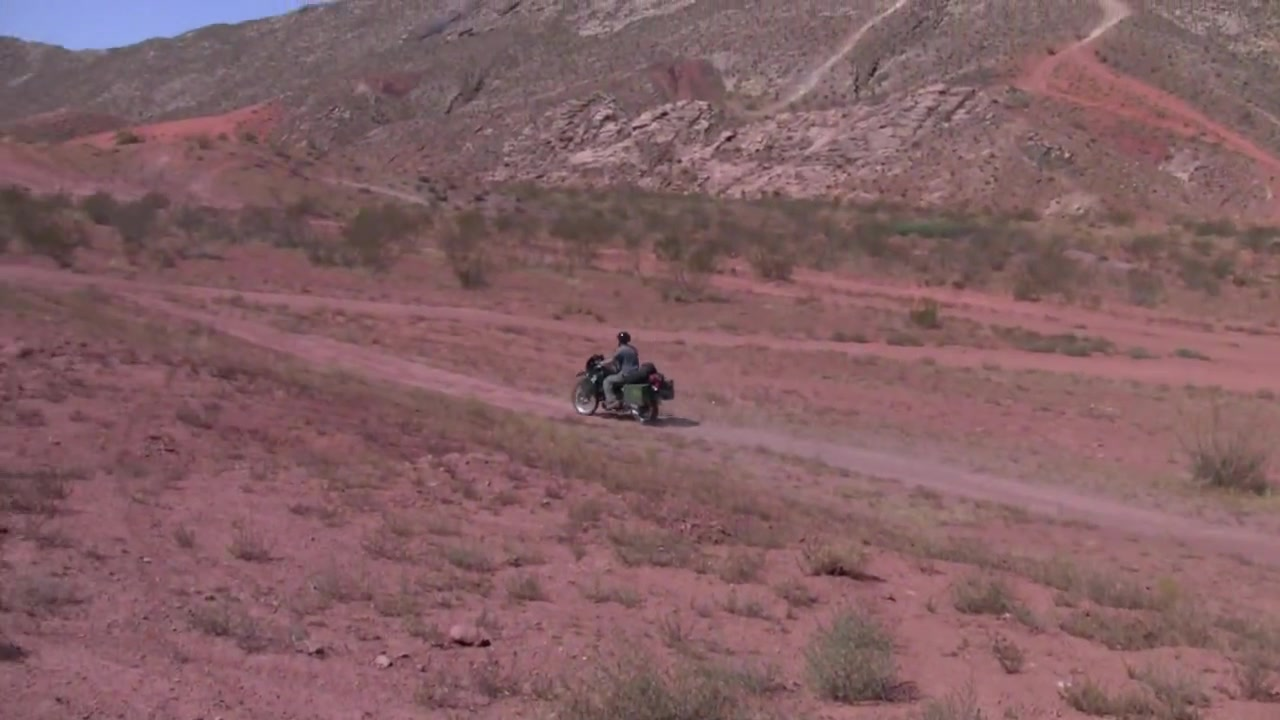motorbike: (571, 357, 676, 429)
